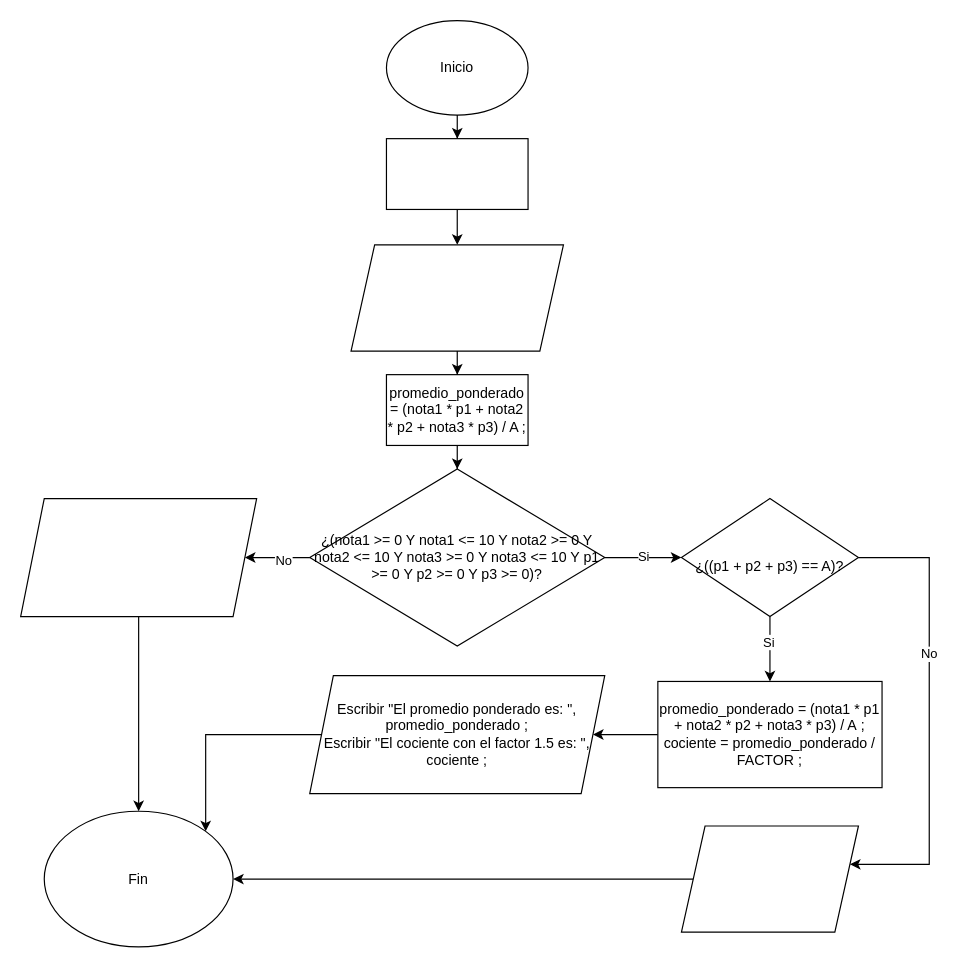
The diagram is 959 pixels wide and 968 high, and some of its shapes have lost their labels. Here are the shapes that lost their labels. From the top down, the centre of each, then its label:
point 456,173: = 100 ; FACTOR = 1.5 ;
point 456,297: Leer nota1 ; Leer nota2 ; Leer nota3 ; Leer p1 ; Leer p2 ; Leer p3 ;
point 138,557: Escribir "Error: Alguna nota o porcentaje esta fuera del rango valido." ;
point 769,878: Escribir "Error: La suma de los porcentajes debe ser exactamente 100." ;
